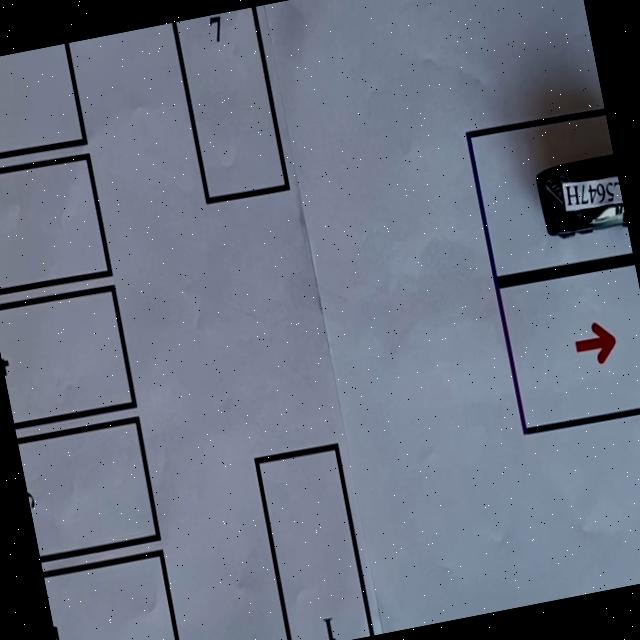car: (530, 152, 629, 250)
